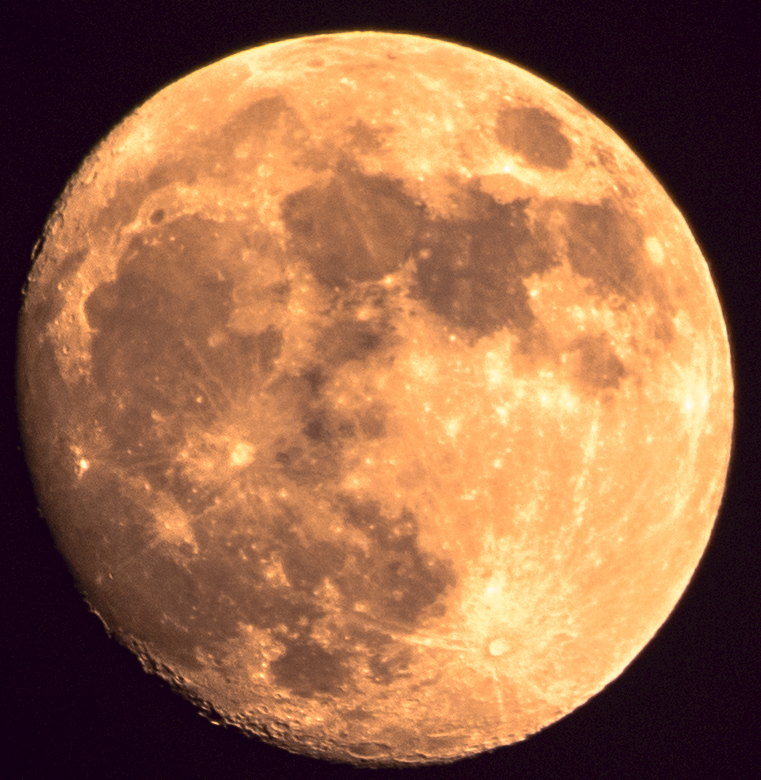crater: (403, 579, 576, 706), (644, 332, 719, 495), (197, 422, 288, 507), (329, 716, 403, 758), (140, 199, 174, 233), (478, 443, 508, 480), (299, 53, 339, 74), (54, 337, 78, 362), (242, 679, 272, 697), (166, 225, 188, 248), (62, 307, 81, 329), (103, 567, 125, 586), (252, 700, 275, 717), (271, 687, 287, 702)
